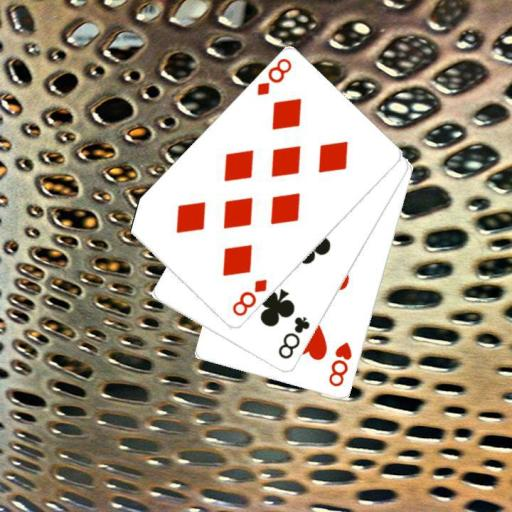8C: (275, 314, 312, 361)
8D: (229, 276, 269, 318), (254, 55, 294, 97)
8H: (326, 339, 353, 389)
